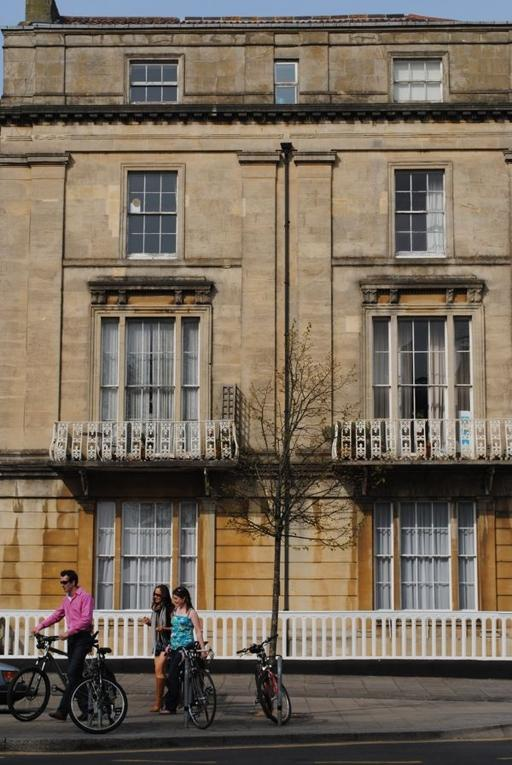non-vehicle: (6, 631, 95, 722), (66, 630, 128, 734), (236, 633, 291, 724), (164, 641, 217, 729)
